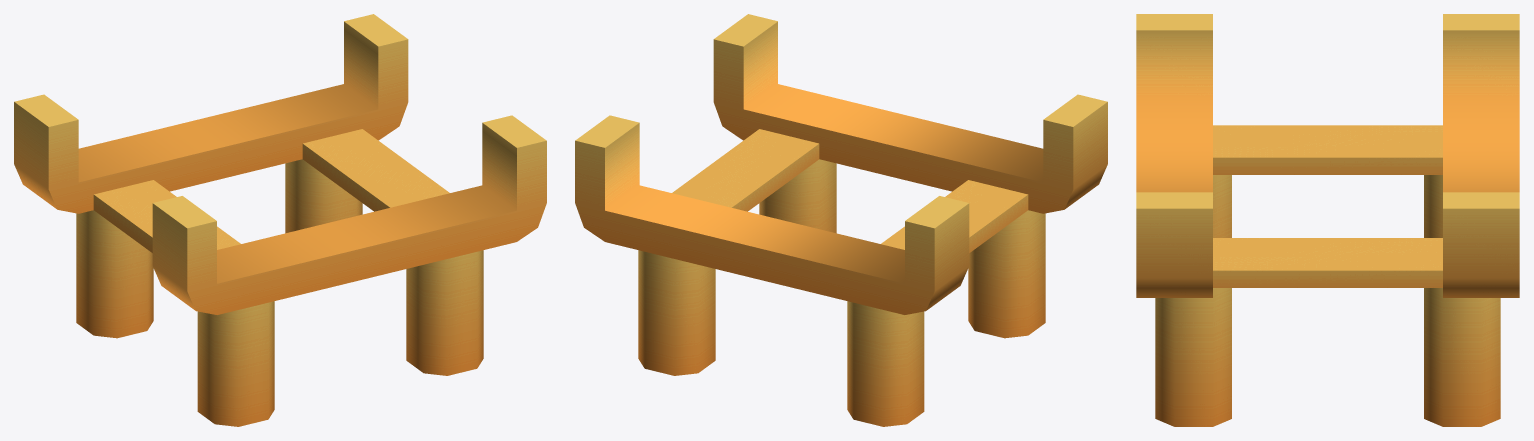
The model's file is support-color-four-top-double-col.glb.
The picture shows the model from 3 angles, left to right: view 1: azimuth 30°, elevation 25°; view 2: azimuth 150°, elevation 25°; view 3: azimuth 270°, elevation 25°; orthographic projection. The views are drawn at different scales.
Parts seen in each view (by area): view 1: support-color-four-top-double-col; view 2: support-color-four-top-double-col; view 3: support-color-four-top-double-col.
Part boxes in pixels (box(x1,y1,x2,y2)): support-color-four-top-double-col: box(14, 14, 546, 426); support-color-four-top-double-col: box(575, 14, 1107, 426); support-color-four-top-double-col: box(1136, 14, 1519, 426).
Size of the model in its own units: 1.2 by 0.7 by 1.
Materials: 1 (1 with a texture image).
